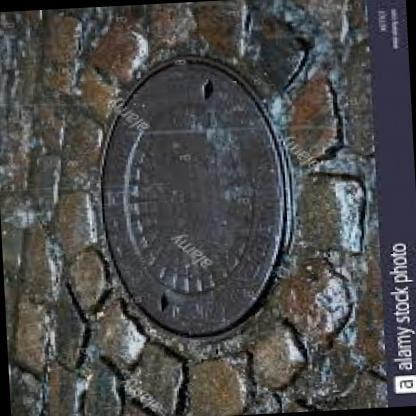manholes: (52, 30, 357, 376)
